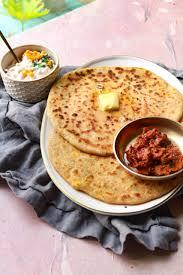paratha: (48, 130, 172, 202), (54, 62, 145, 144), (133, 57, 182, 117)
